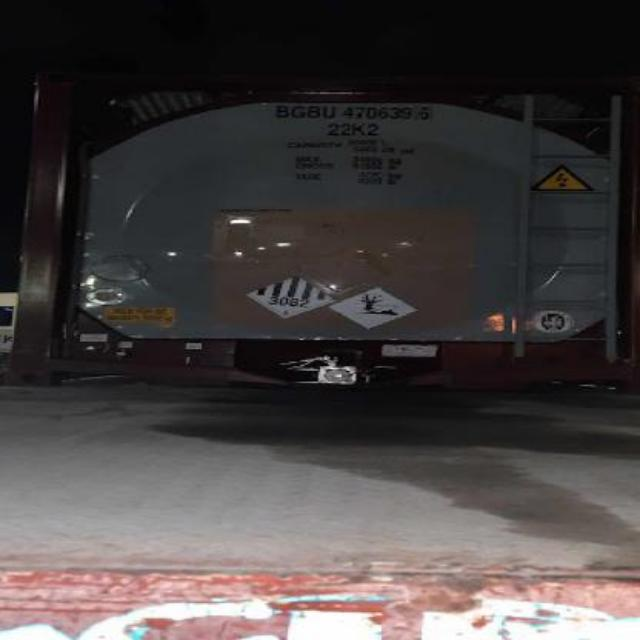0: (366, 105, 378, 118)
3: (388, 105, 402, 118)
4: (340, 105, 356, 118)
6: (416, 105, 434, 118), (378, 105, 390, 118)
7: (354, 105, 366, 118)
9: (402, 105, 414, 118)
B: (275, 105, 291, 118), (306, 106, 322, 118)
G: (290, 105, 308, 118)
U: (322, 105, 338, 118)
